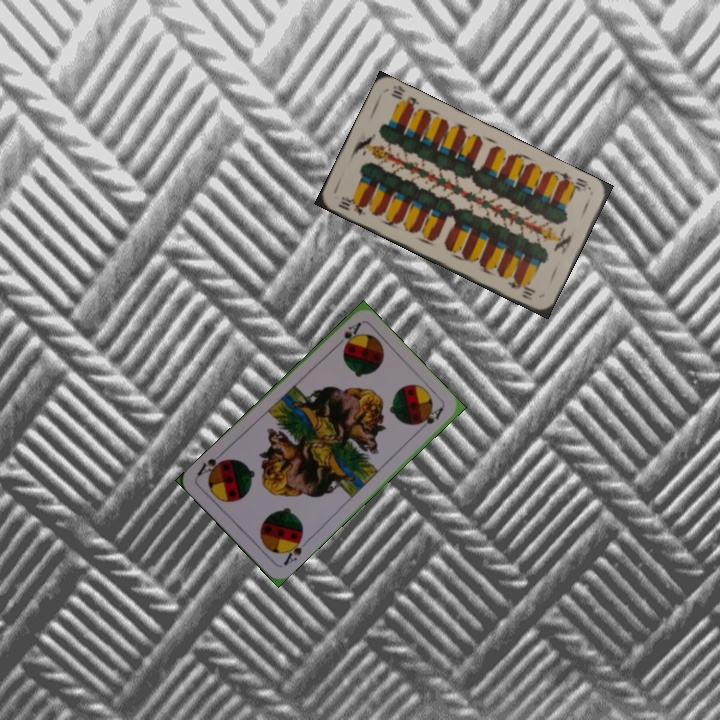E10: (555, 168, 594, 194), (334, 192, 369, 218)
SA: (331, 318, 364, 351), (279, 532, 305, 568)
